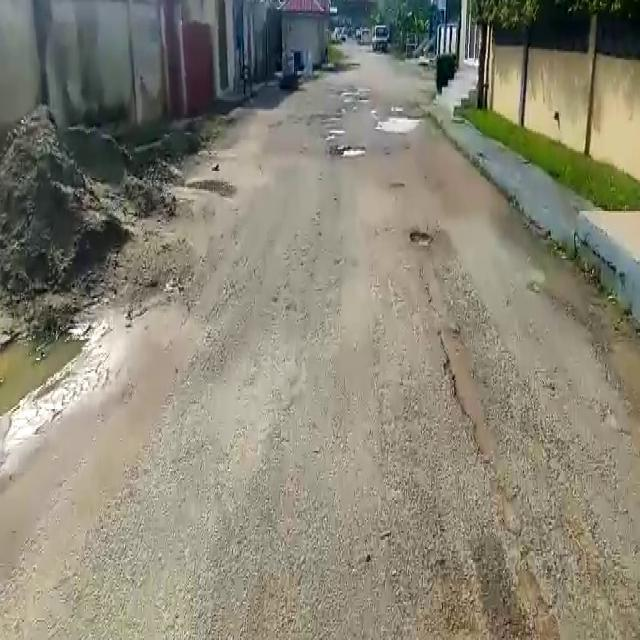pothole: (374, 113, 424, 135), (332, 142, 370, 158), (408, 231, 433, 249)
